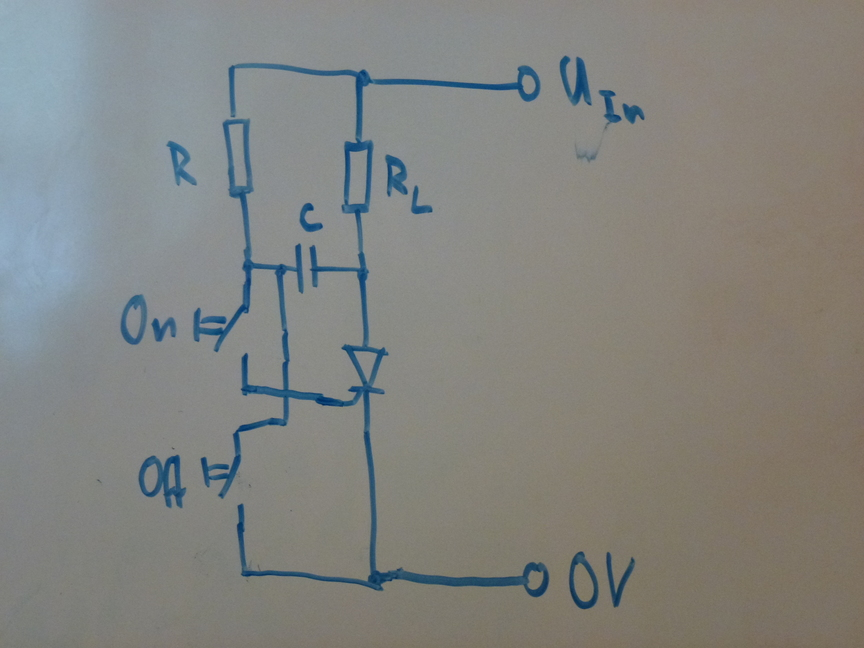capacitor.unpolarized: (293, 242, 321, 295)
crossover: (279, 385, 293, 400)
junction: (366, 570, 387, 593), (354, 69, 371, 88), (356, 264, 370, 282), (239, 380, 253, 397), (241, 258, 256, 273), (274, 263, 287, 277), (239, 566, 252, 578), (279, 415, 290, 428), (226, 61, 237, 74), (232, 424, 243, 436)
resistor: (221, 115, 257, 199), (340, 139, 374, 216)
switch: (193, 304, 251, 360), (199, 456, 247, 508)
terminal: (520, 560, 551, 599), (515, 64, 542, 103)
text: (559, 55, 646, 125), (567, 550, 637, 610), (118, 292, 178, 346), (384, 152, 435, 214), (136, 454, 188, 509), (164, 139, 200, 188), (298, 202, 325, 233)
thyristor: (341, 343, 390, 396)
